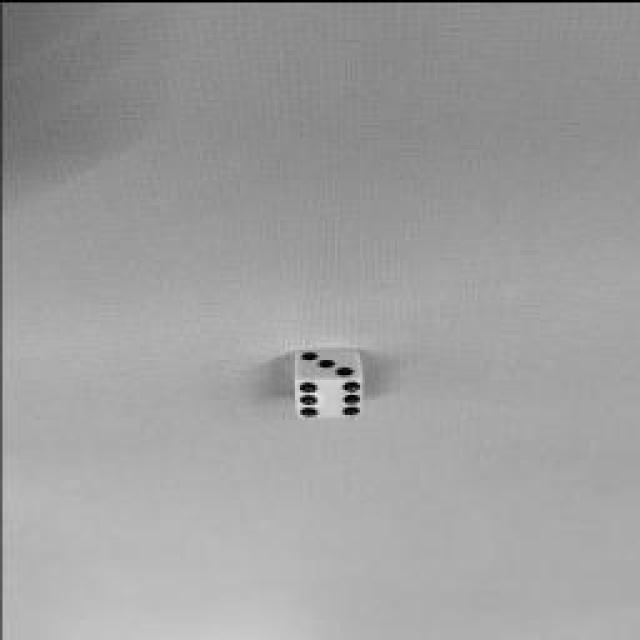dice_6: (295, 377, 363, 415)
